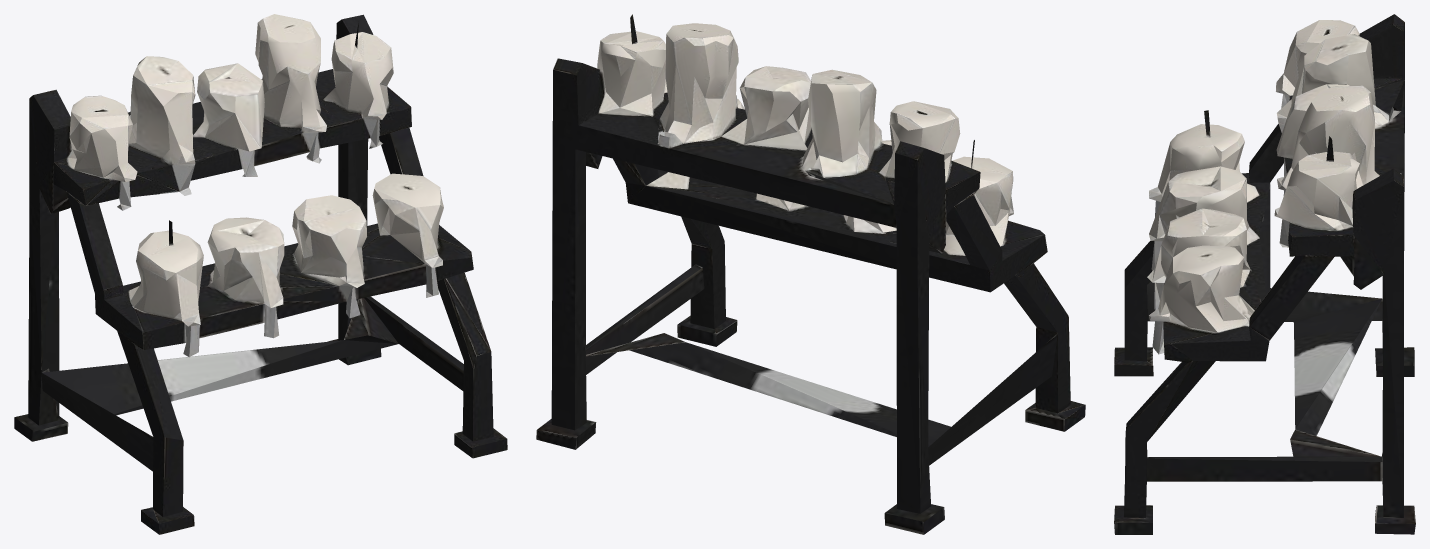
The model's file is votive_rack.glb.
3 views of the same model, side by side, from view 1: azimuth 30°, elevation 25°; view 2: azimuth 150°, elevation 25°; view 3: azimuth 270°, elevation 25° (orthographic). The views are drawn at different scales.
Parts seen in each view (by area): view 1: Mesh_0; view 2: Mesh_0; view 3: Mesh_0.
Boxes of the visible parts, x1,y1,x2,y2 form: Mesh_0: [14, 14, 507, 534]; Mesh_0: [536, 14, 1085, 534]; Mesh_0: [1114, 14, 1415, 534].
Size of the model in its own units: 1.74 by 1.78 by 1.26.
1 material, 1 textured.
